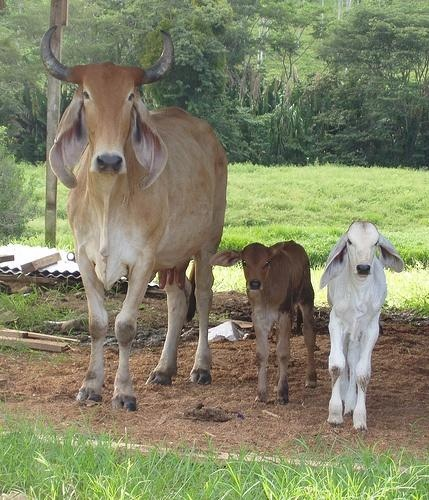cow: (39, 26, 229, 412), (318, 221, 408, 435), (211, 240, 319, 408)
